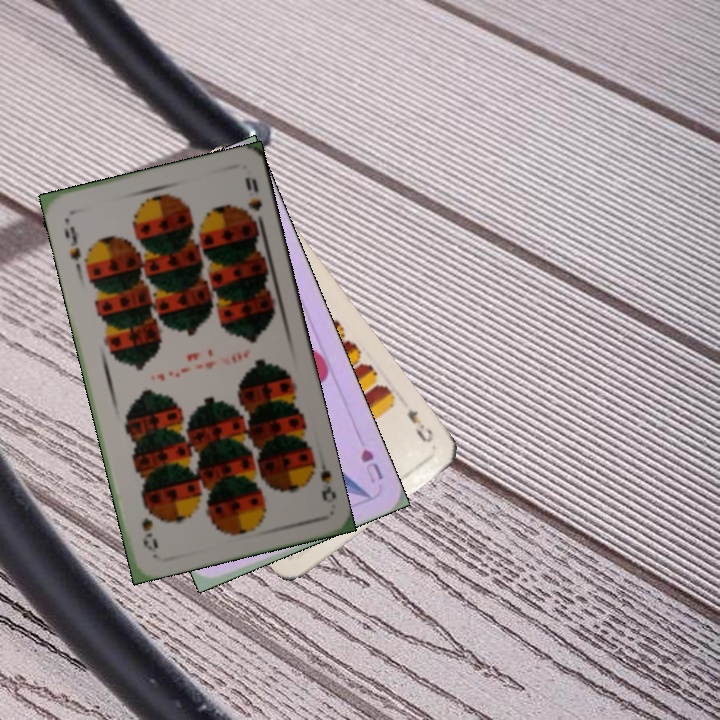E9: (403, 406, 437, 445)
HU: (356, 444, 386, 486)
S9: (303, 452, 339, 504), (60, 222, 84, 264)
